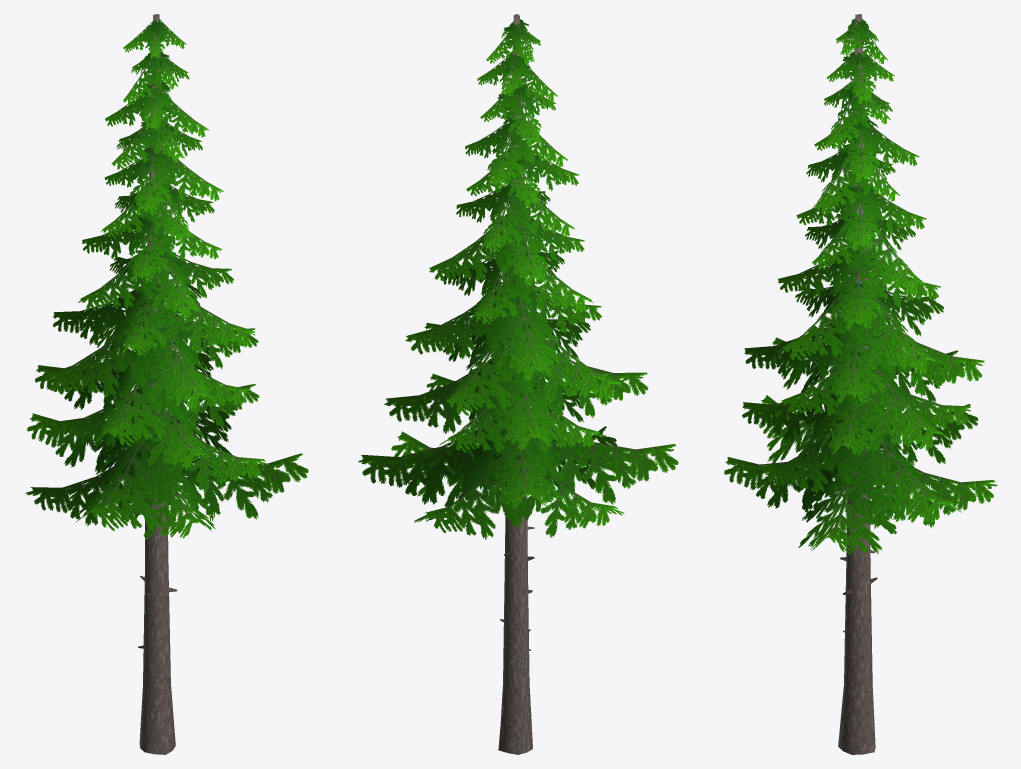
File: FAE_Spruce_B.fbx
3 views of the same model, side by side, from view 1: azimuth 30°, elevation 25°; view 2: azimuth 150°, elevation 25°; view 3: azimuth 270°, elevation 25° (orthographic).
Visible parts, largest first — view 1: FAE_Spruce_B_LOD0; view 2: FAE_Spruce_B_LOD0; view 3: FAE_Spruce_B_LOD0.
Boxes of the visible parts, x1,y1,x2,y2 form: FAE_Spruce_B_LOD0: (25,14,308,754); FAE_Spruce_B_LOD0: (358,14,678,754); FAE_Spruce_B_LOD0: (724,14,997,754).
Size of what is drawn, in the model's own units: 896 by 2252 by 812.
Materials: 2 (2 with a texture image).
